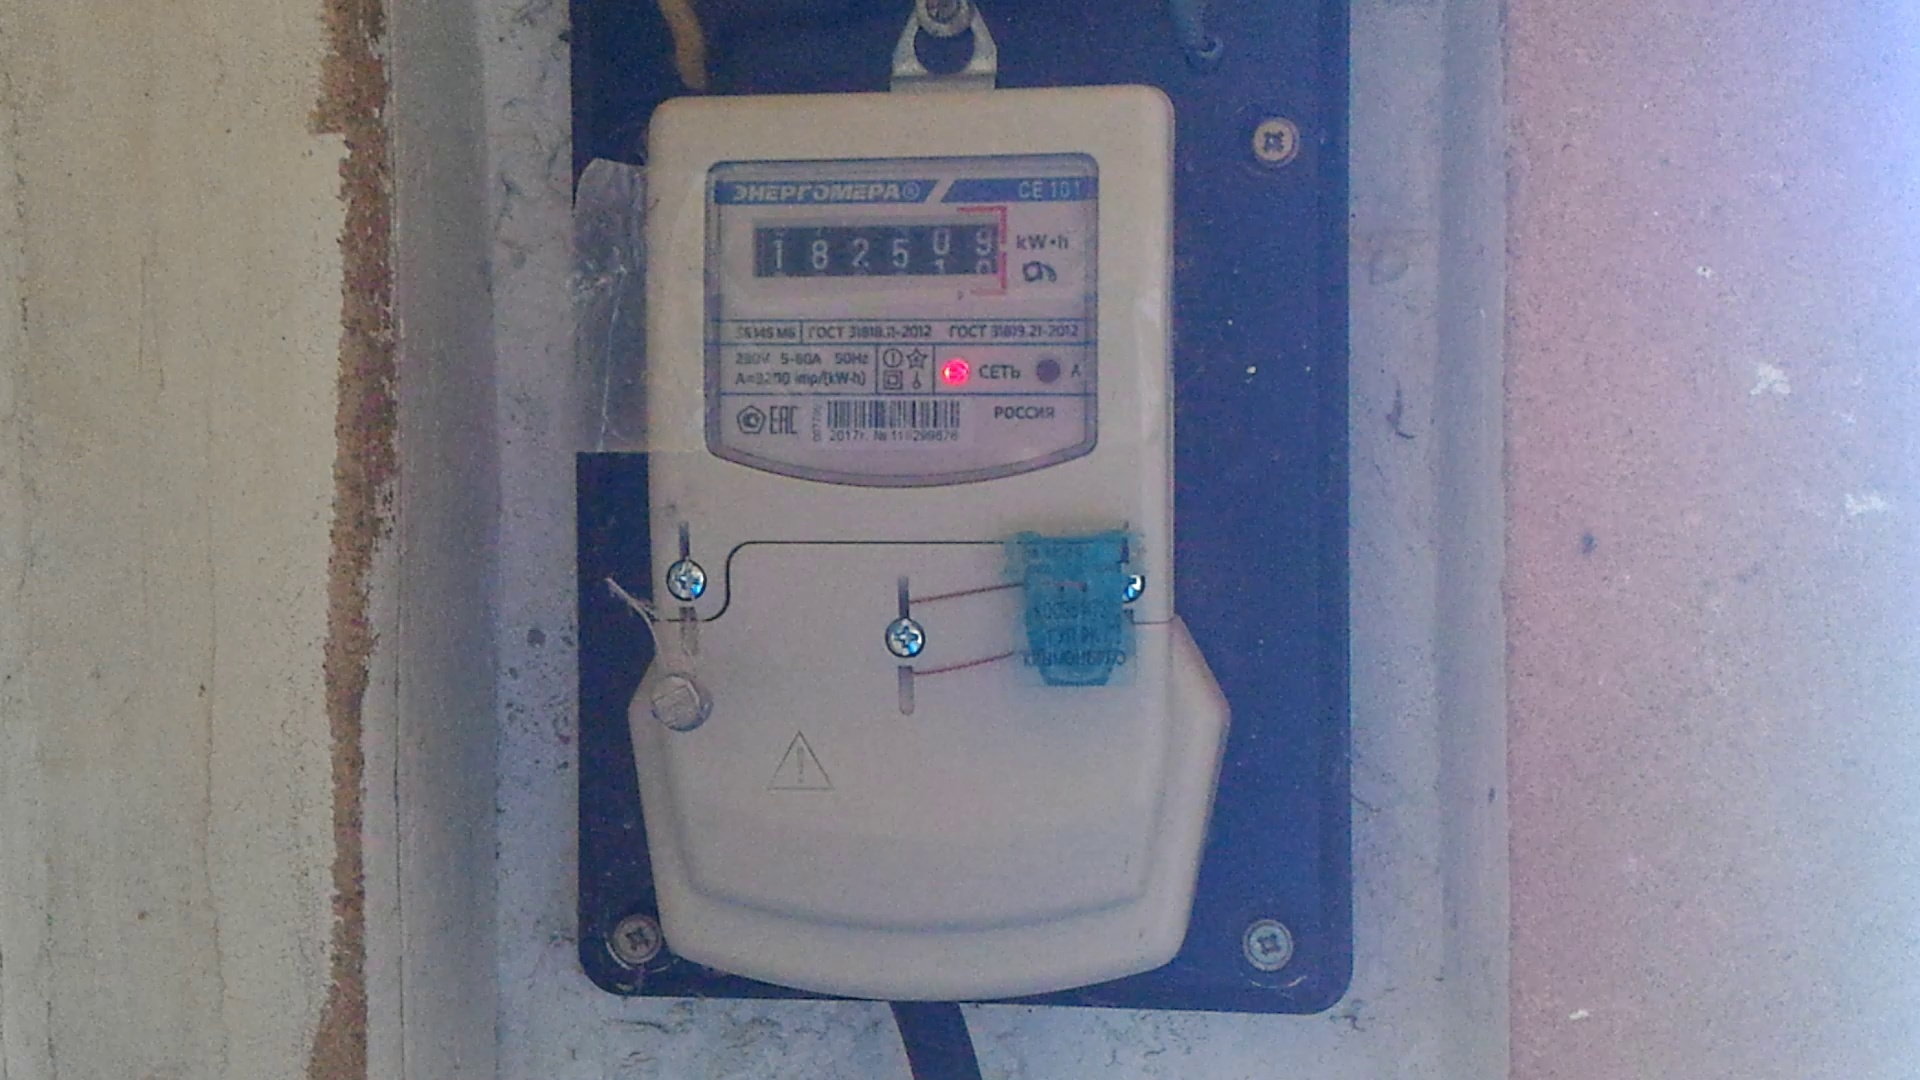counter: (651, 84, 1182, 972)
counter_screen: (753, 222, 1002, 280)
